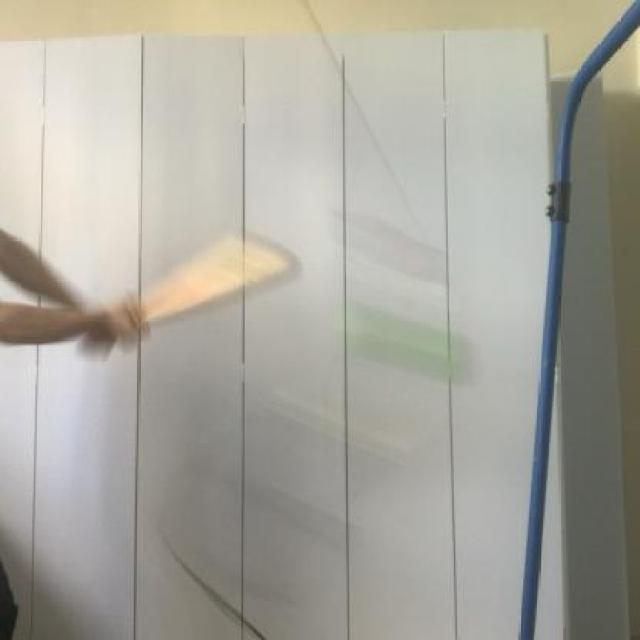baseball: (342, 287, 484, 388)
